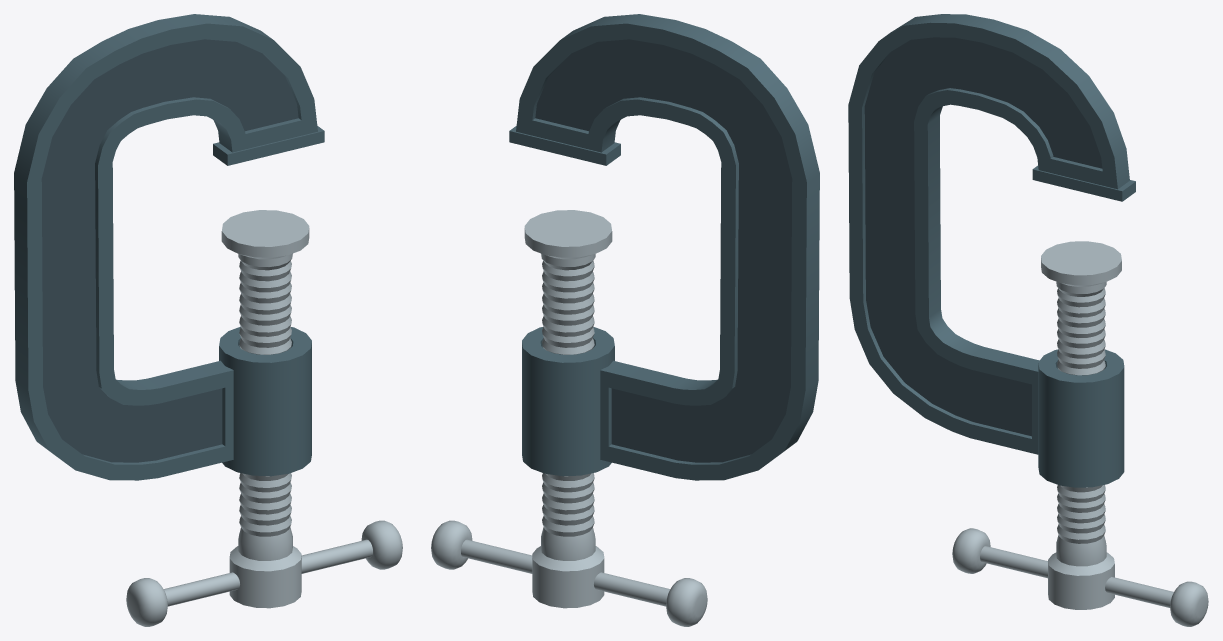
The model's file is clamp.glb.
The picture shows the model from 3 angles, left to right: view 1: azimuth 30°, elevation 25°; view 2: azimuth 150°, elevation 25°; view 3: azimuth 330°, elevation 25°; orthographic projection. The views are drawn at different scales.
Visible parts, largest first — view 1: Cube.999; view 2: Cube.999; view 3: Cube.999.
Part boxes in pixels (box(x1,y1,x2,y2)): Cube.999: box(14, 14, 402, 626); Cube.999: box(431, 14, 819, 626); Cube.999: box(848, 14, 1208, 626).
Size of the model in its own units: 1.52 by 2.31 by 0.3296.
1 material, 1 textured.
